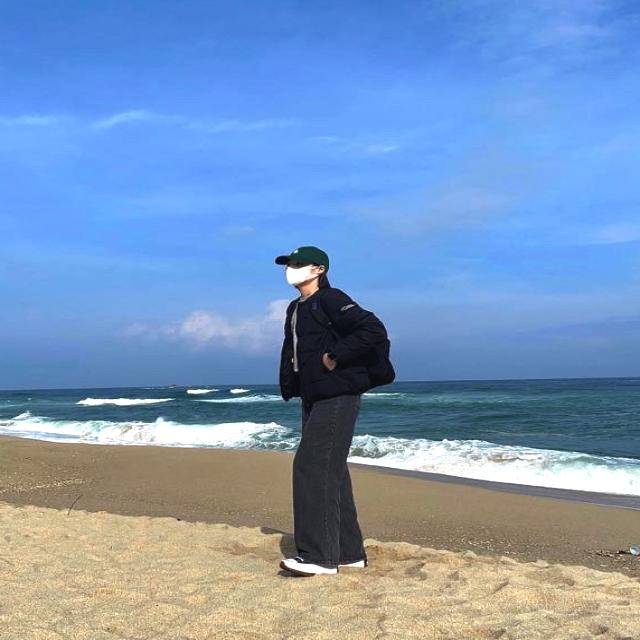denimpants: (293, 394, 367, 568)
padding: (278, 288, 394, 400)
